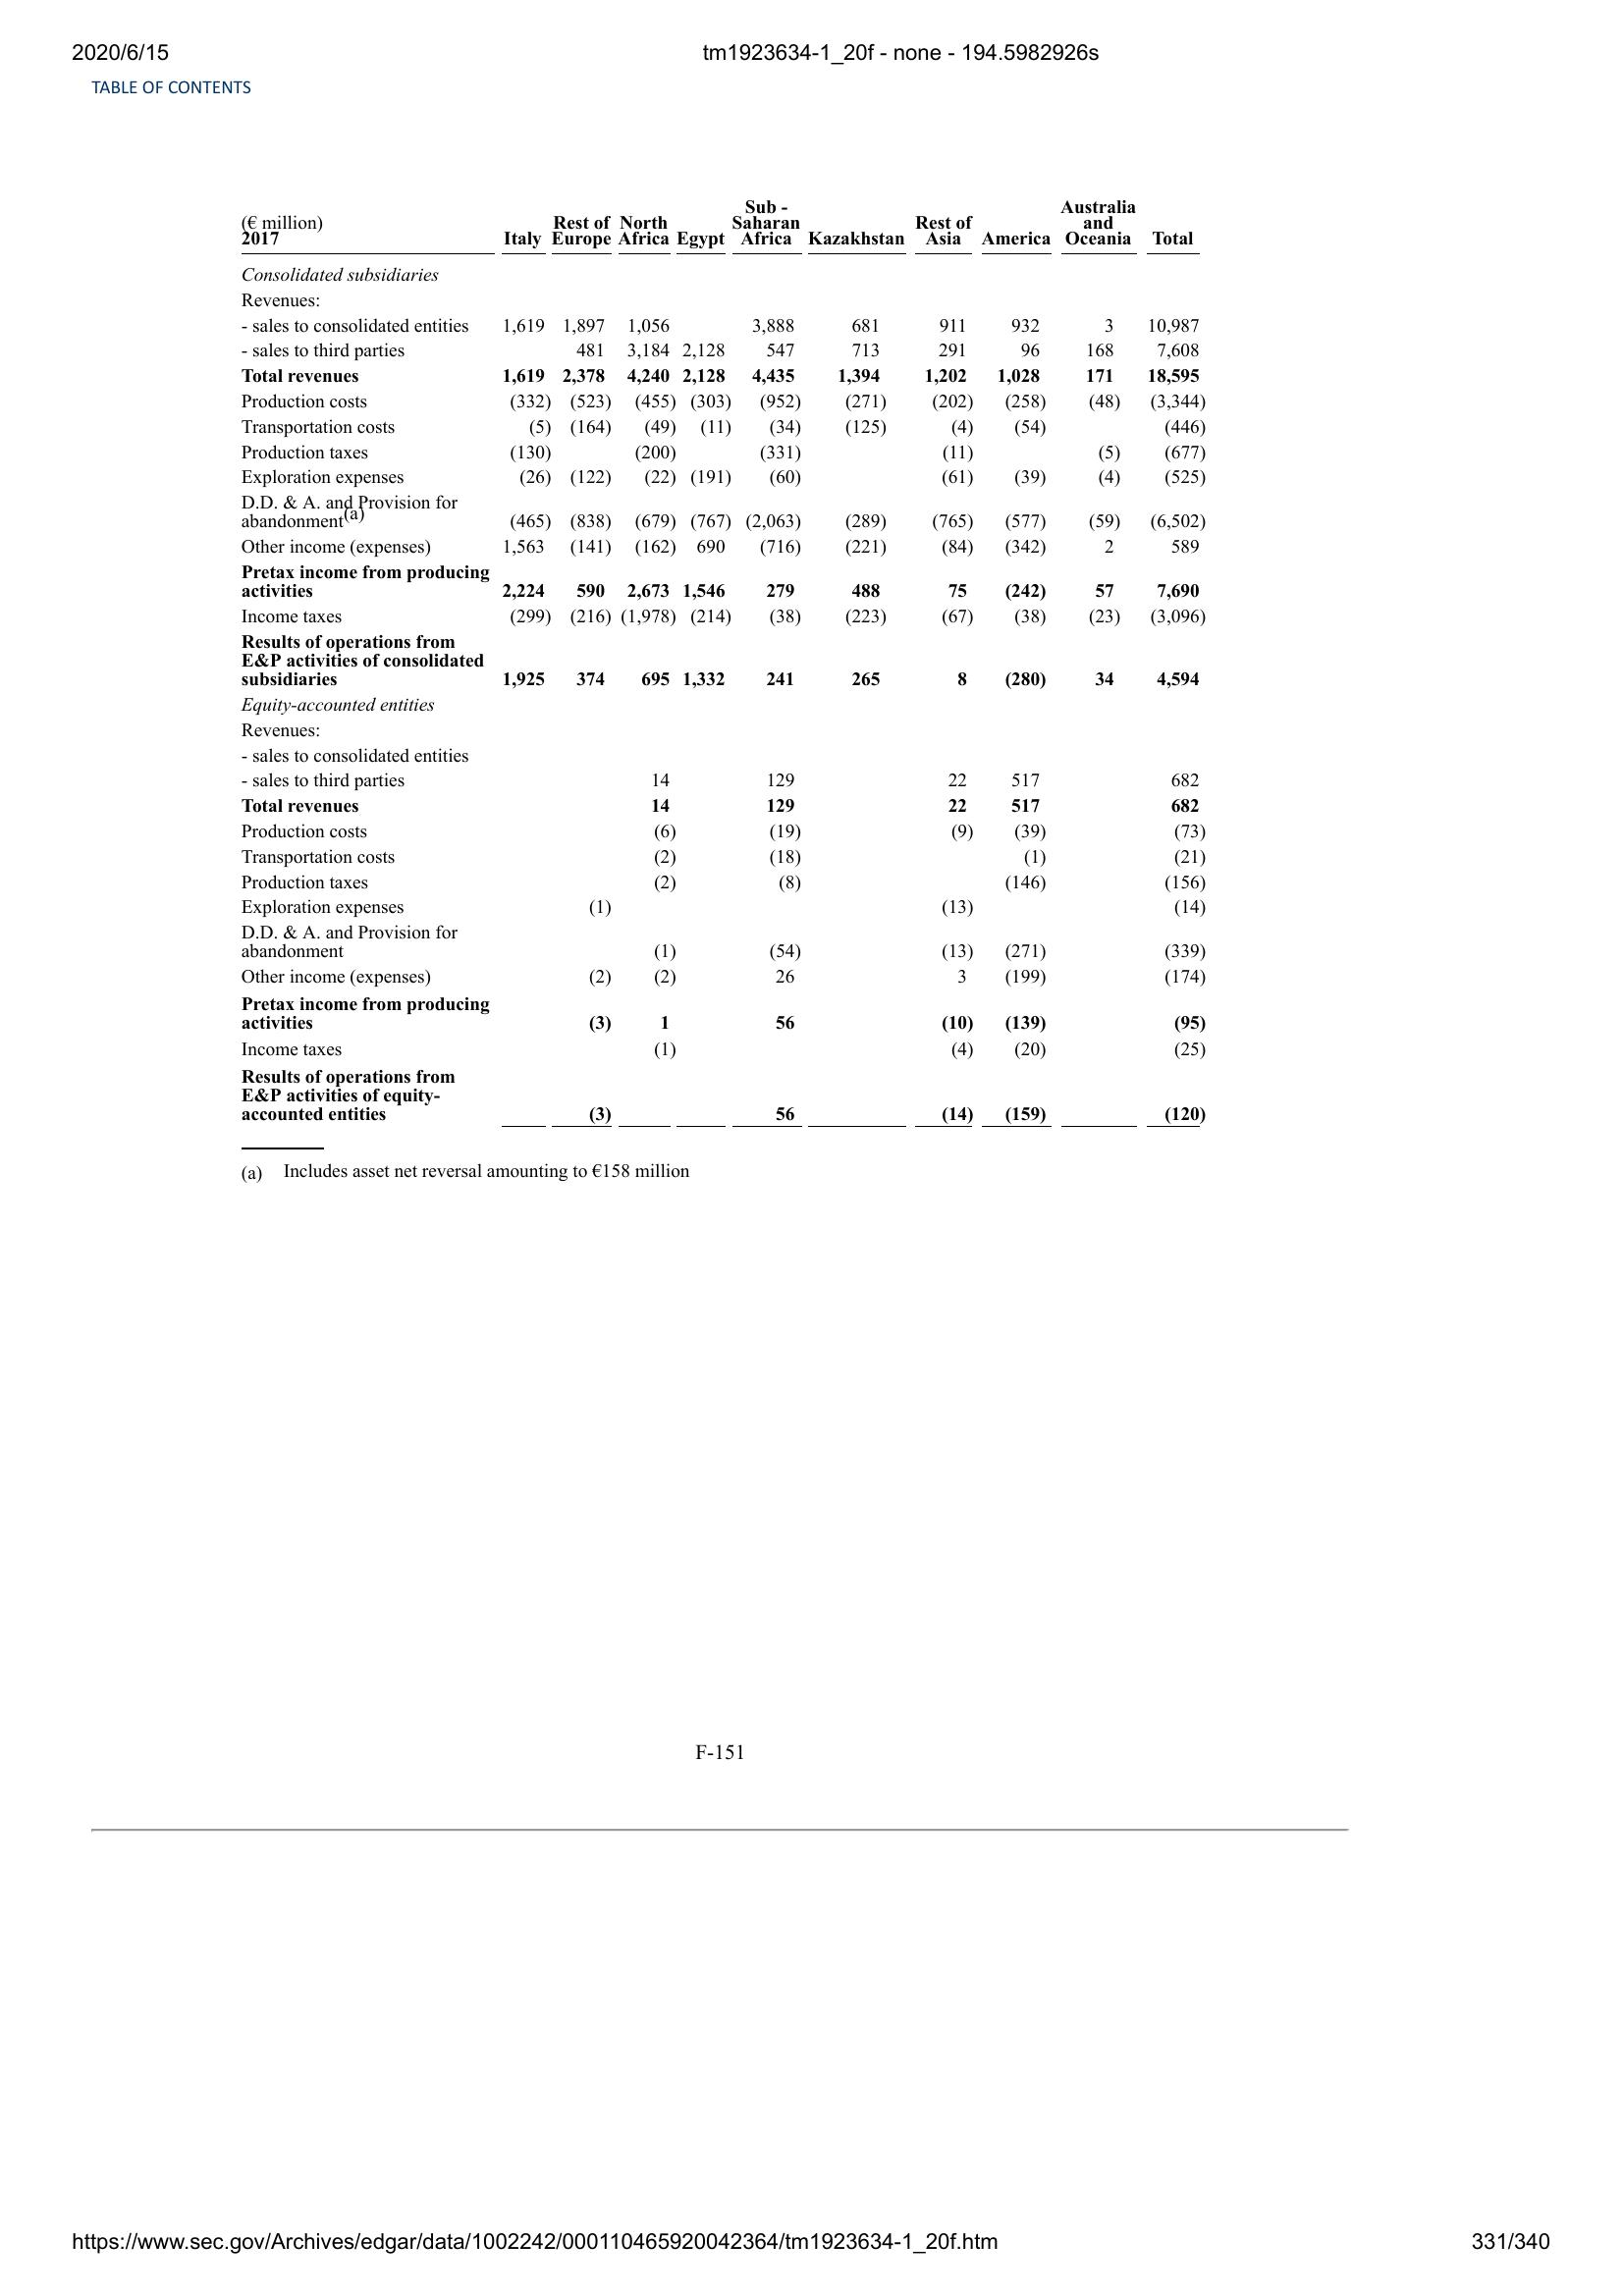table: (232, 198, 1217, 1137)
